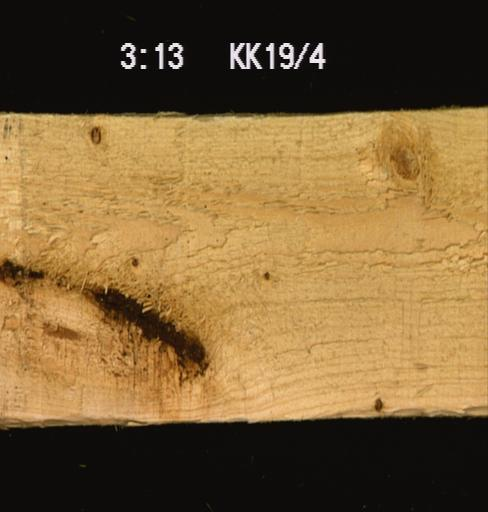dry_knot: (88, 124, 102, 145)
edge_knot: (372, 394, 383, 411)
small_knot: (261, 267, 272, 281)
sound_knot: (353, 112, 456, 219)
wave: (305, 402, 486, 417)
